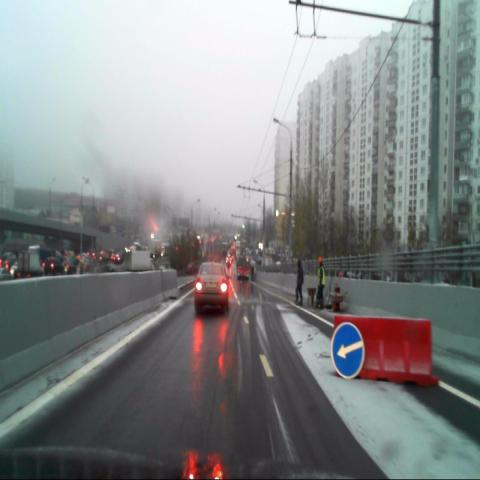4_2_2: (330, 322, 364, 379)
